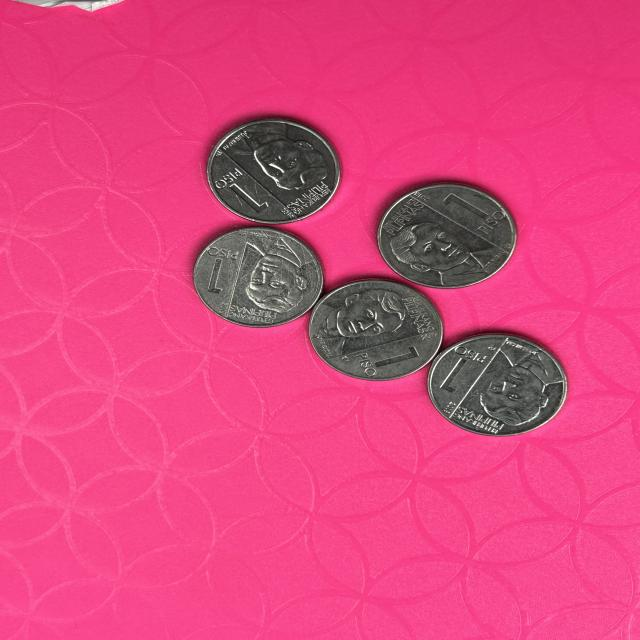1_New_Front: (428, 188, 508, 241), (214, 165, 278, 220), (353, 347, 429, 381), (435, 340, 483, 393), (203, 242, 245, 300)
